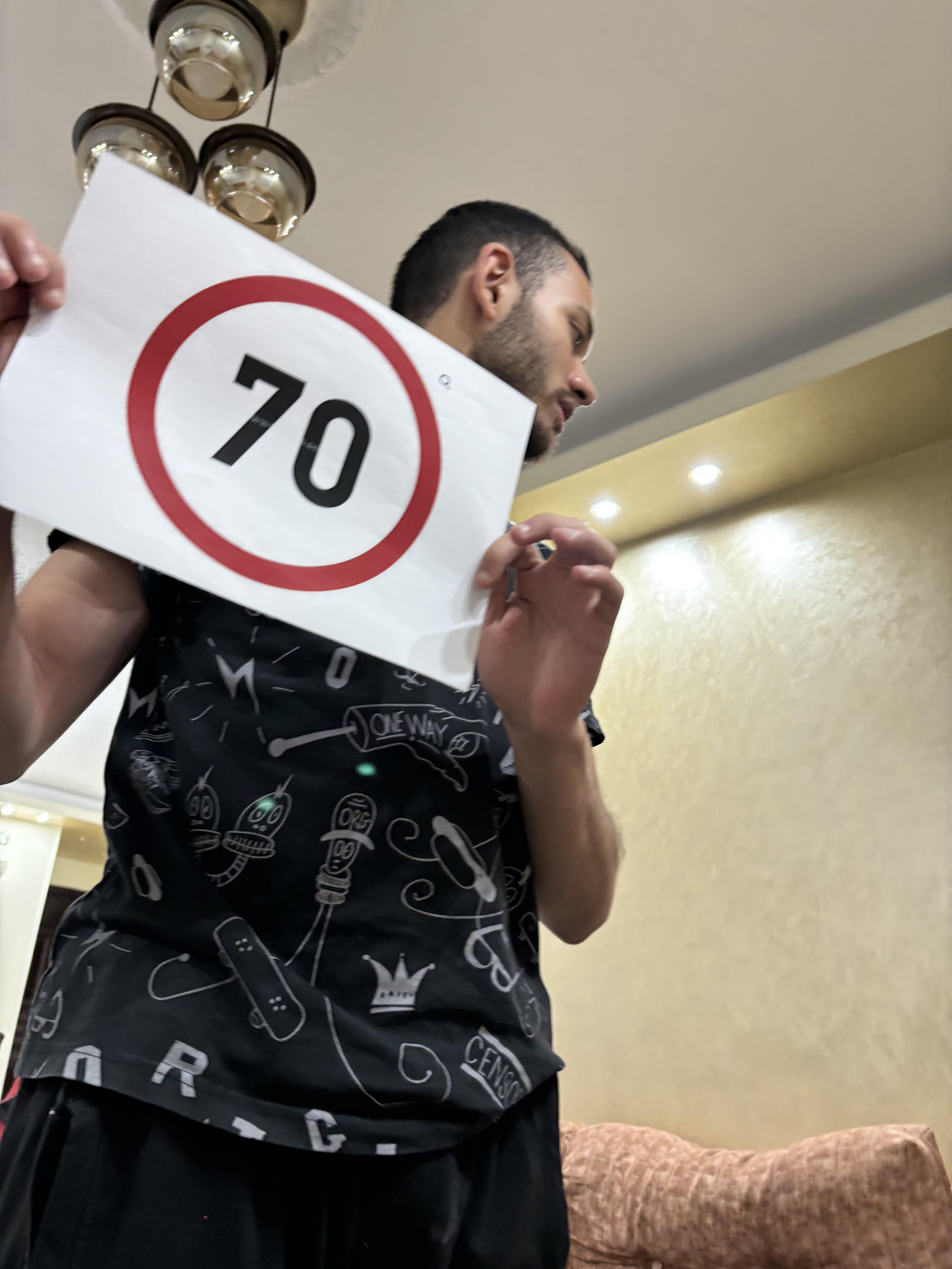70-Speed: (125, 276, 449, 593)
